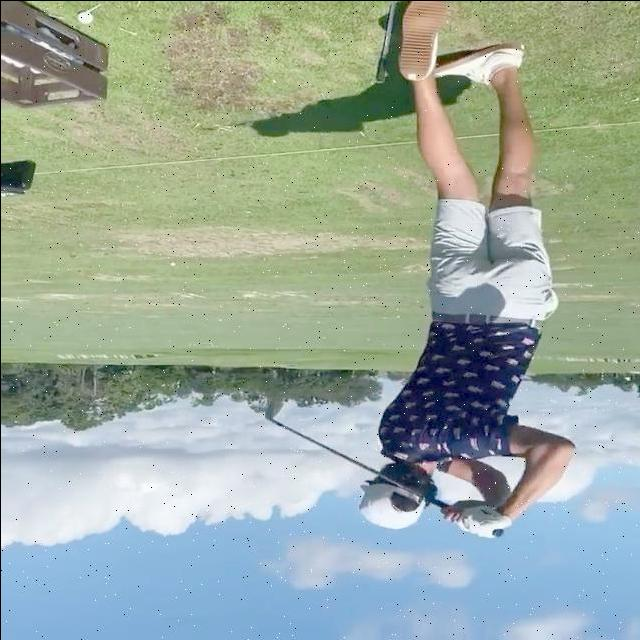ClubHandle: (261, 397, 504, 537)
ClubHead: (263, 399, 282, 417)
GolfBall: (77, 11, 93, 22)
